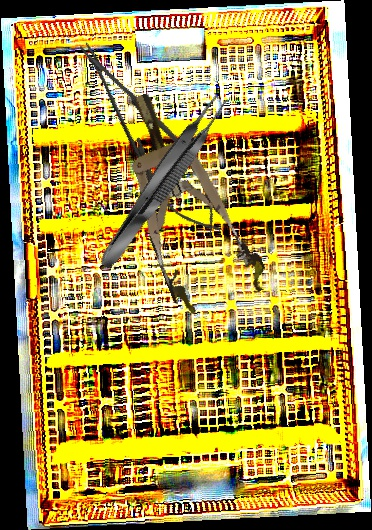Needle Holder: (60, 26, 239, 249)
Speculum: (97, 76, 273, 323)
Tissue Forceps: (91, 89, 234, 274)
